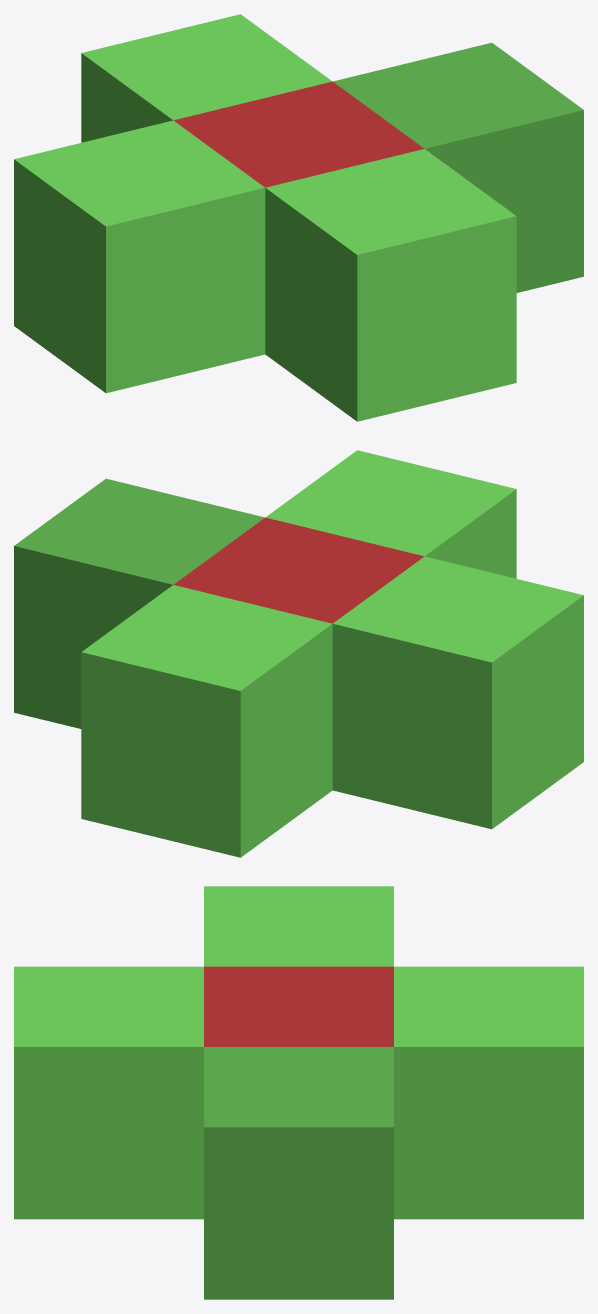
The model's file is Mushroom6_S.obj.
3 renders of one model, top to bottom at view 1: azimuth 30°, elevation 25°; view 2: azimuth 150°, elevation 25°; view 3: azimuth 270°, elevation 25°, orthographic. The views are drawn at different scales.
Parts seen in each view (by area): view 1: Mushroom6_S; view 2: Mushroom6_S; view 3: Mushroom6_S.
Boxes of the visible parts, x1,y1,x2,y2 form: Mushroom6_S: [14, 14, 583, 421]; Mushroom6_S: [14, 450, 583, 857]; Mushroom6_S: [14, 886, 583, 1299].
Bounding box in the file's own units: 0.3 × 0.1 × 0.3.
1 material, 1 textured.
